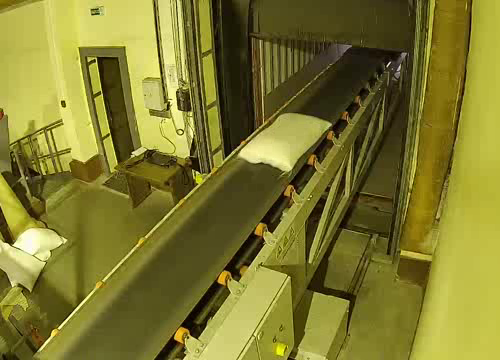bag: (237, 112, 334, 173)
